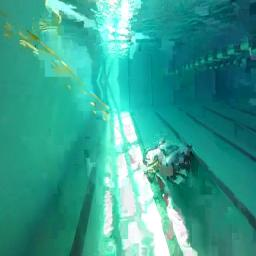Full: (143, 140, 193, 186)
back: (144, 140, 194, 187)
